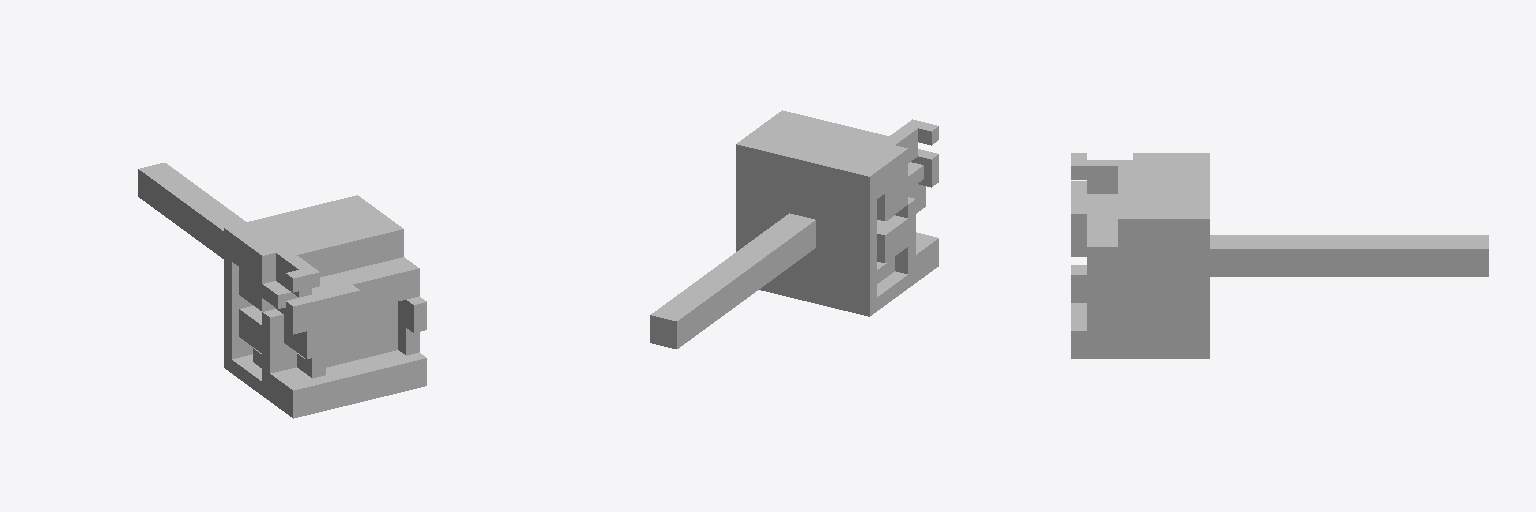
Rendered from tree.obj.
The picture shows the model from 3 angles: view 1: azimuth 30°, elevation 25°; view 2: azimuth 150°, elevation 25°; view 3: azimuth 270°, elevation 25°; orthographic projection.
Bounding box in the file's own units: 10 × 10 × 27.